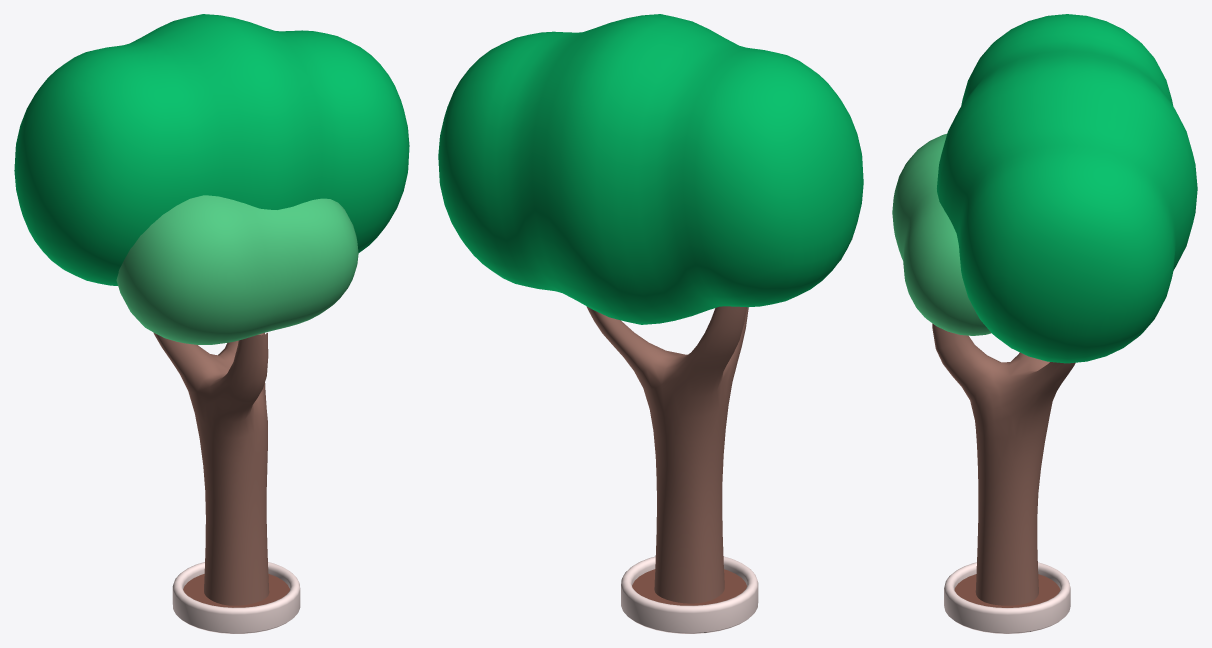
File: City_11_Tree_1.glb
3 views of the same model, side by side, from view 1: azimuth 30°, elevation 25°; view 2: azimuth 150°, elevation 25°; view 3: azimuth 270°, elevation 25° (orthographic). The views are drawn at different scales.
Parts seen in each view (by area): view 1: City_11_Tree_1; view 2: City_11_Tree_1; view 3: City_11_Tree_1.
Boxes of the visible parts, x1,y1,x2,y2 form: City_11_Tree_1: [14, 14, 409, 633]; City_11_Tree_1: [438, 14, 863, 633]; City_11_Tree_1: [892, 14, 1197, 633].
Size of the model in its own units: 4.83 by 7.17 by 3.6.
1 material, 1 textured.
